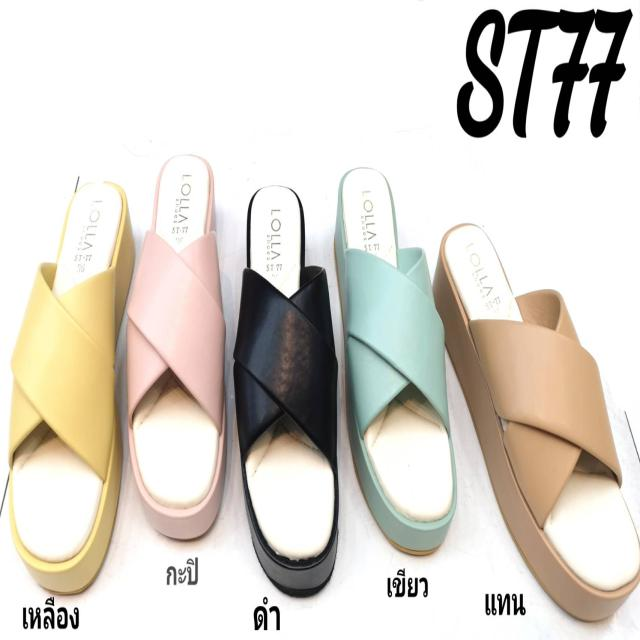black: (239, 188, 340, 593)
green: (335, 174, 456, 547)
kapi: (130, 154, 230, 541)
tan: (439, 225, 640, 622)
yellow: (10, 185, 128, 583)
